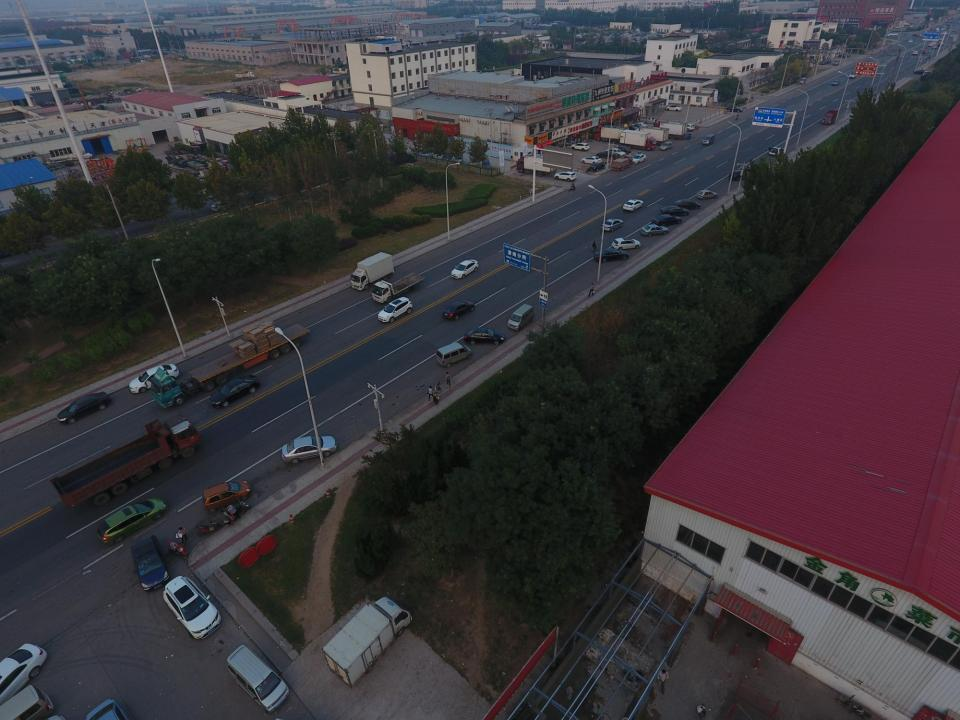car: (162, 575, 222, 640), (95, 497, 169, 545), (0, 642, 49, 705), (129, 536, 171, 592), (56, 391, 112, 424), (208, 374, 260, 408), (128, 363, 181, 394), (201, 481, 252, 513), (282, 436, 338, 464), (378, 296, 414, 324), (463, 327, 506, 345), (442, 300, 476, 320), (593, 247, 630, 263), (450, 259, 479, 279), (610, 237, 642, 251), (651, 214, 682, 228), (639, 223, 670, 236), (210, 198, 238, 212), (658, 205, 689, 217), (673, 198, 702, 210), (622, 198, 644, 213), (601, 218, 624, 232), (553, 170, 577, 182), (728, 168, 750, 181), (696, 189, 718, 200), (605, 148, 627, 158), (596, 150, 618, 159), (612, 145, 631, 155), (569, 142, 590, 151), (768, 145, 785, 156), (629, 153, 646, 164), (588, 162, 606, 172), (580, 156, 602, 164), (658, 141, 674, 151), (468, 154, 478, 168), (631, 122, 648, 130), (441, 150, 452, 162), (454, 151, 464, 164), (725, 105, 743, 112), (481, 158, 491, 170), (420, 148, 430, 159), (682, 123, 694, 132), (664, 105, 682, 111), (832, 79, 840, 87), (848, 71, 856, 79)
truck: (49, 413, 205, 509), (150, 322, 310, 408), (320, 596, 412, 690), (350, 252, 394, 292), (372, 272, 426, 303), (516, 153, 558, 177), (619, 129, 657, 151), (632, 126, 669, 145), (594, 125, 629, 144), (652, 121, 687, 140), (611, 154, 634, 170), (822, 109, 839, 125), (234, 70, 256, 82)
van: (226, 645, 290, 713), (0, 684, 55, 720), (435, 342, 473, 368), (506, 303, 536, 331), (702, 134, 715, 146), (798, 76, 807, 85), (832, 58, 840, 66)
